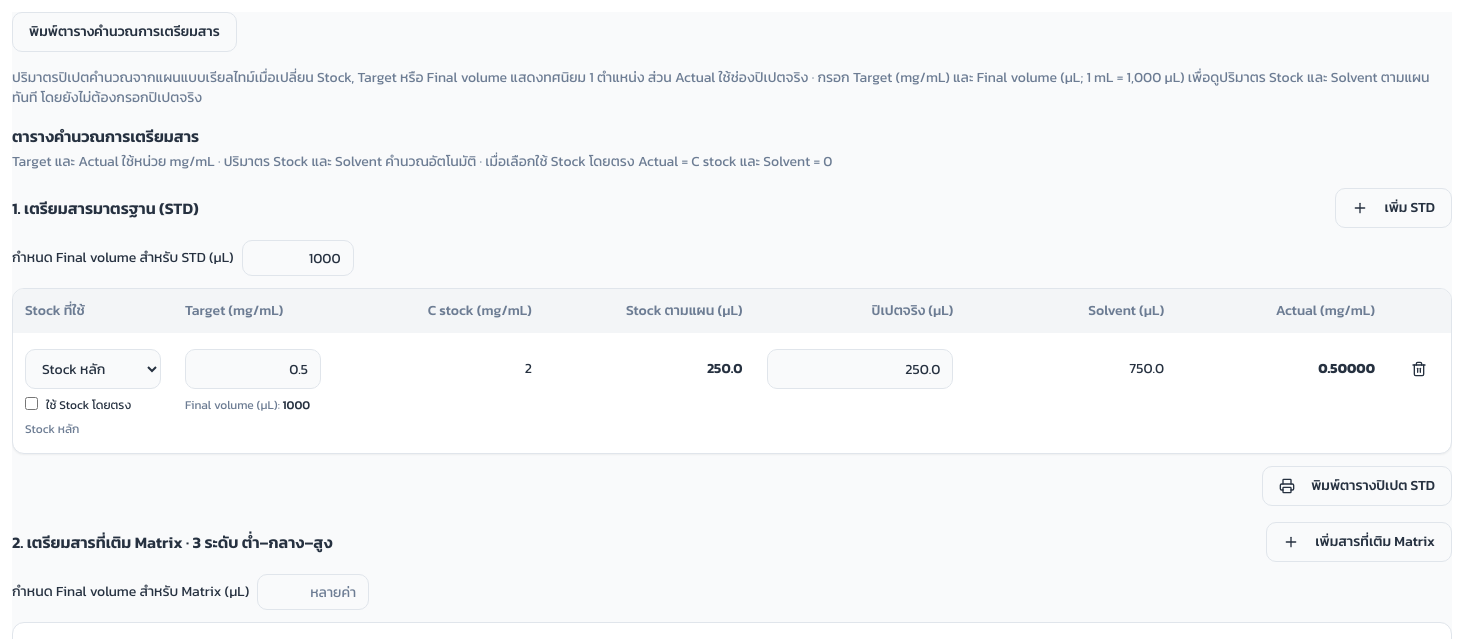
it: recalculates pipetting when switching stock and clears impossible dilution
Select "Stock มาตรฐานชื่อยาวสำหรับทดสอบ" in the dropdown named "Stock ระดับ 1": x=93, y=369 [25,349,161,389]
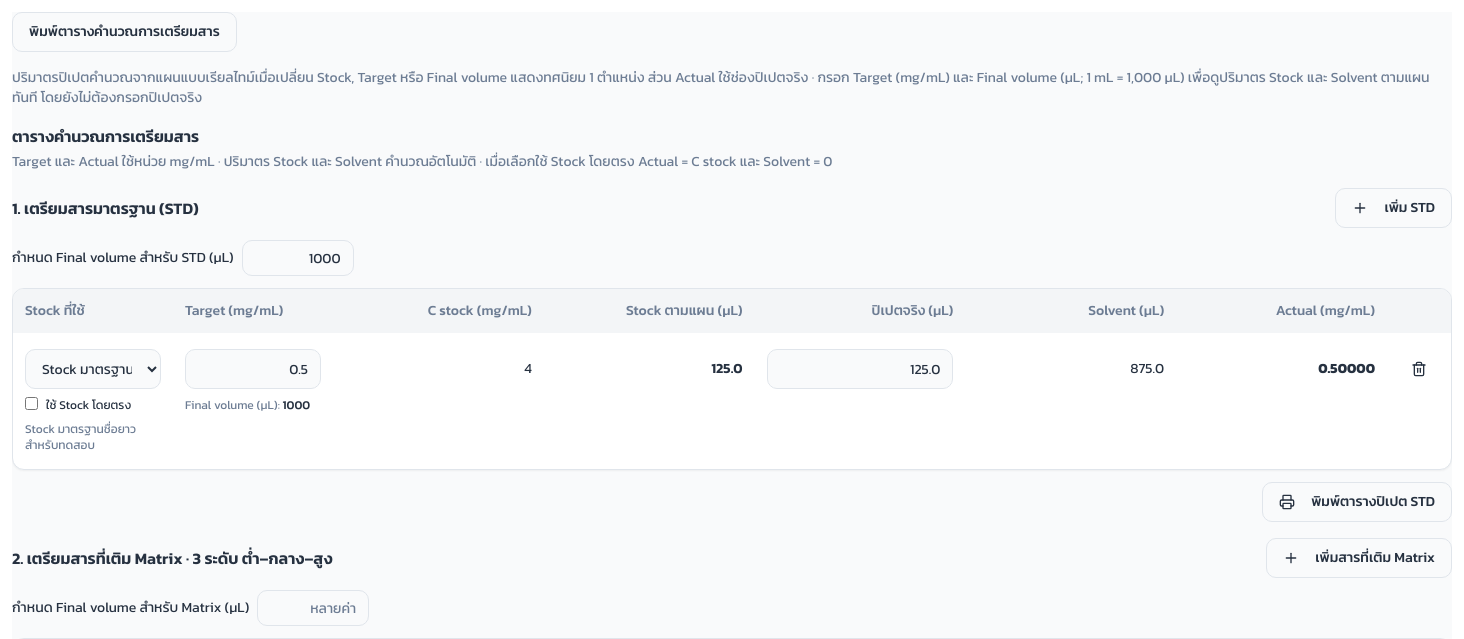
Now the text named "aliquot ระดับ 1" reads "125.0", box [711,358,743,379]
Select "เจือจาง" in the dropdown named "Stock ระดับ 1": x=93, y=369 [25,349,161,389]
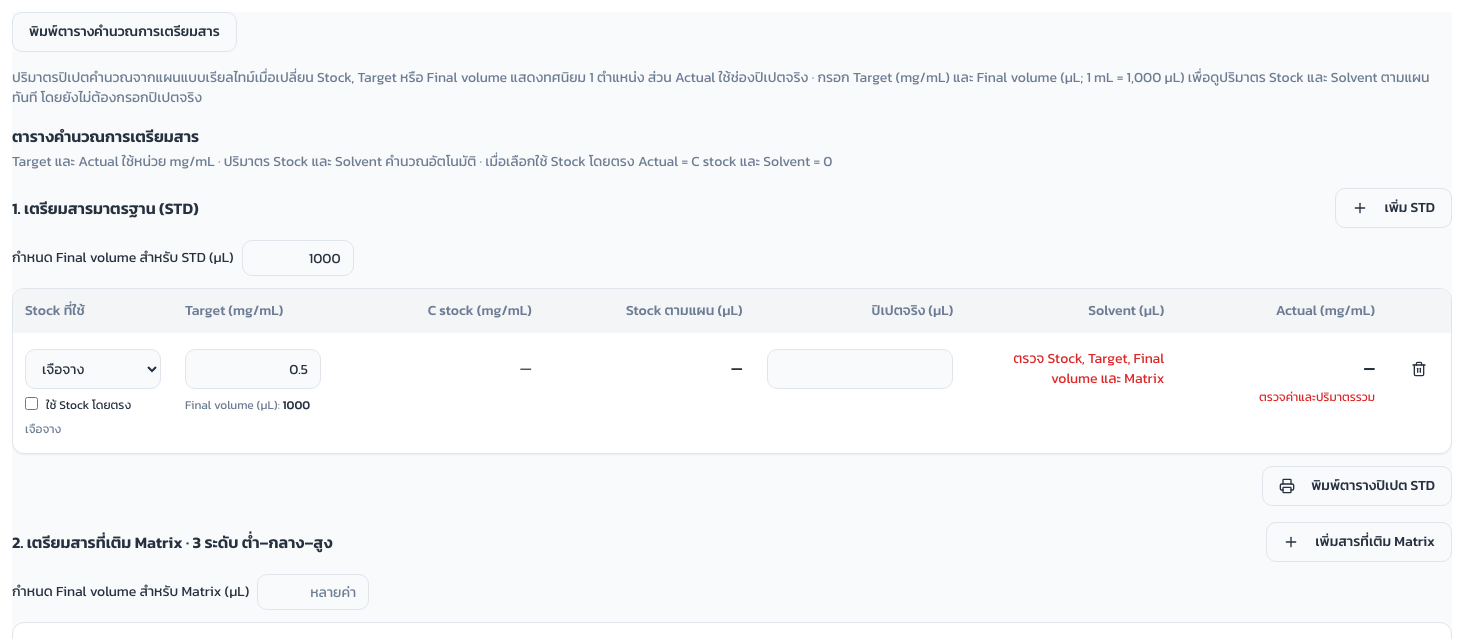
Now the text named "aliquot ระดับ 1" reads "—", box [731,358,743,379]
